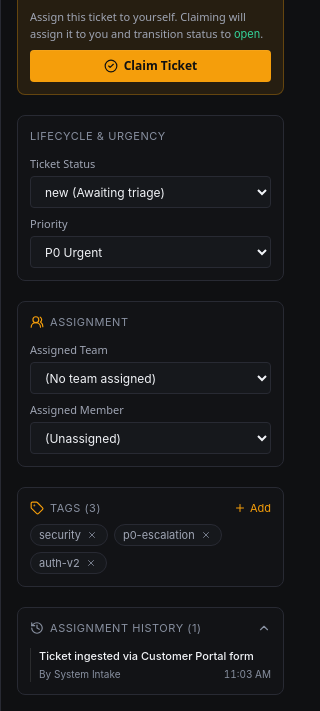
Test: TicketCockpit.Inspector & TicketMetadataInspector (Issue #105) › allows 1-click detachment of existing tags via remove tag button
The width and height of the screenshot is (320, 711).
(page scrolled)
Check: the element with test id "tag-chip-security" is shown, box x1=30 y1=524 x2=108 y2=546
Check: the element with test id "tag-chip-p0-escalation" is shown, box x1=114 y1=524 x2=222 y2=546
Click the button with test id "remove-tag-security".
click(92, 535)  # box x1=85 y1=528 x2=99 y2=542
(page scrolled)
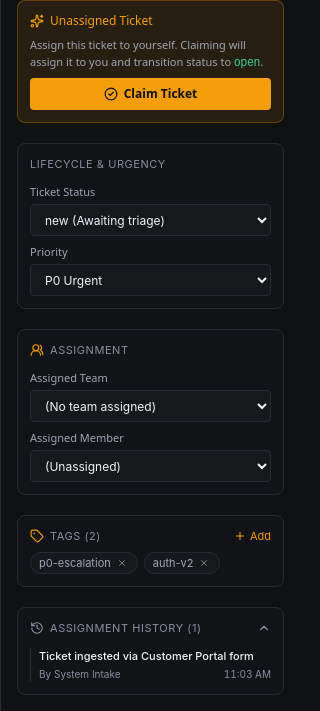
Check: the element with test id "tag-chip-security" is gone
